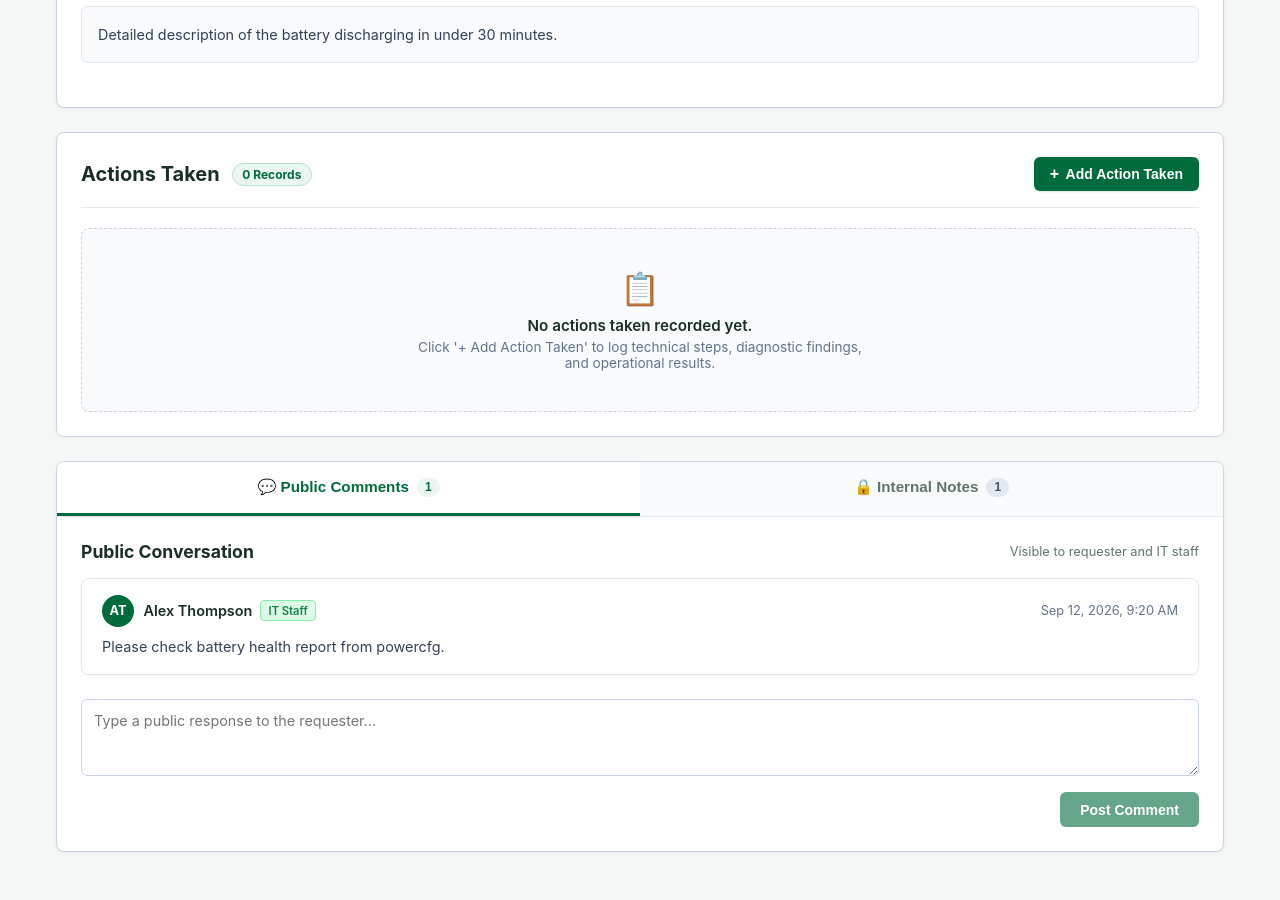
Test case: UI-04 & UI-05: StaffTicketDetail Component Tests › UI-05: Public Comments vs Internal Notes Isolation › renders Public Comments tab by default with comments list and post form
(page scrolled)
Expected: the button with test id "public-comments-tab" is shown, [57,462,640,516]
Expected: the text "Please check battery health report from powercfg." is shown, [102,638,445,655]
// Post new comment
Type "We have shipped a replacement battery to your office." into the text box with test id "public-comment-input". click: (640, 738)
box: [81,699,1199,776]
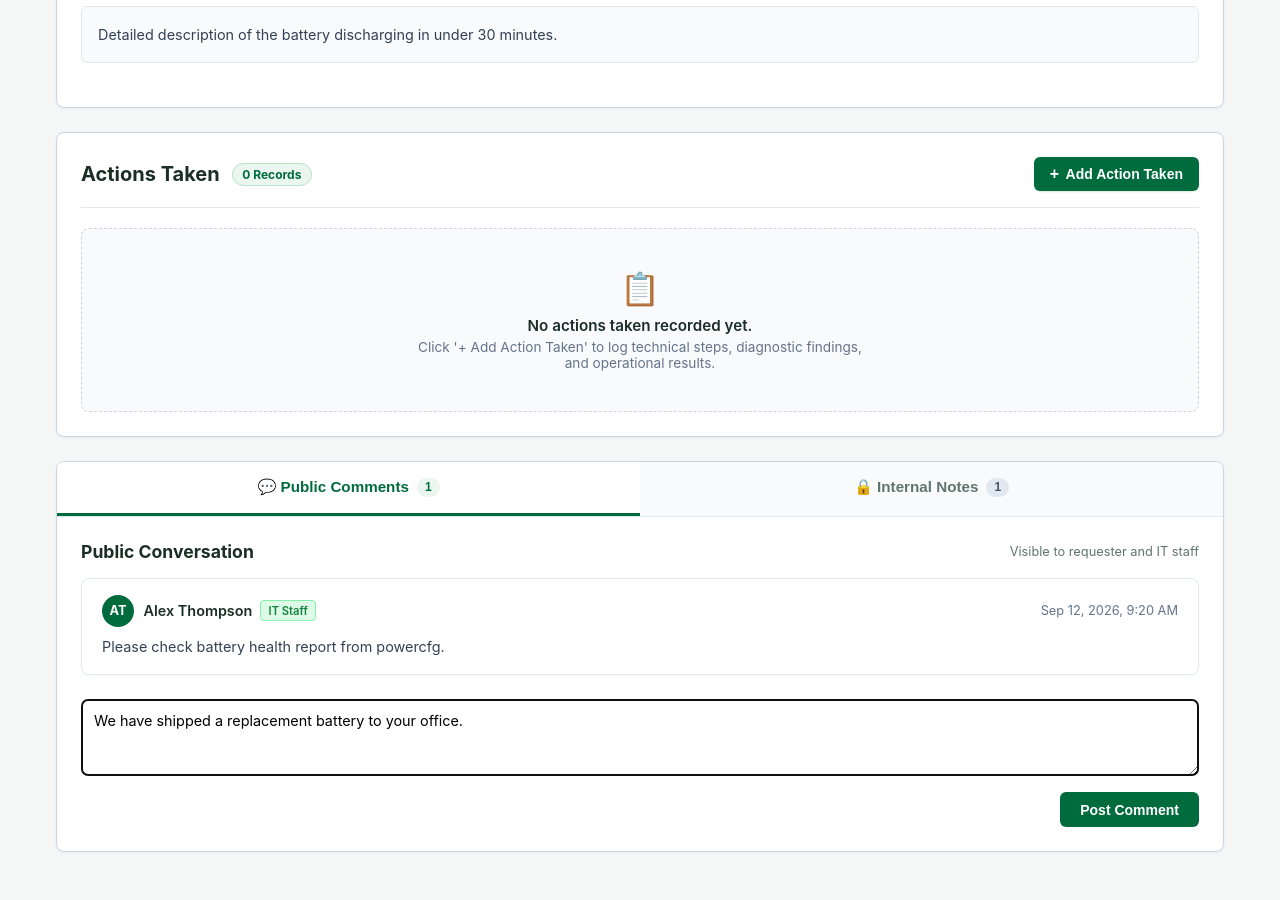
Click the button with test id "post-comment-btn". click: (1130, 810)
box: [1060,792,1199,827]
(page scrolled)
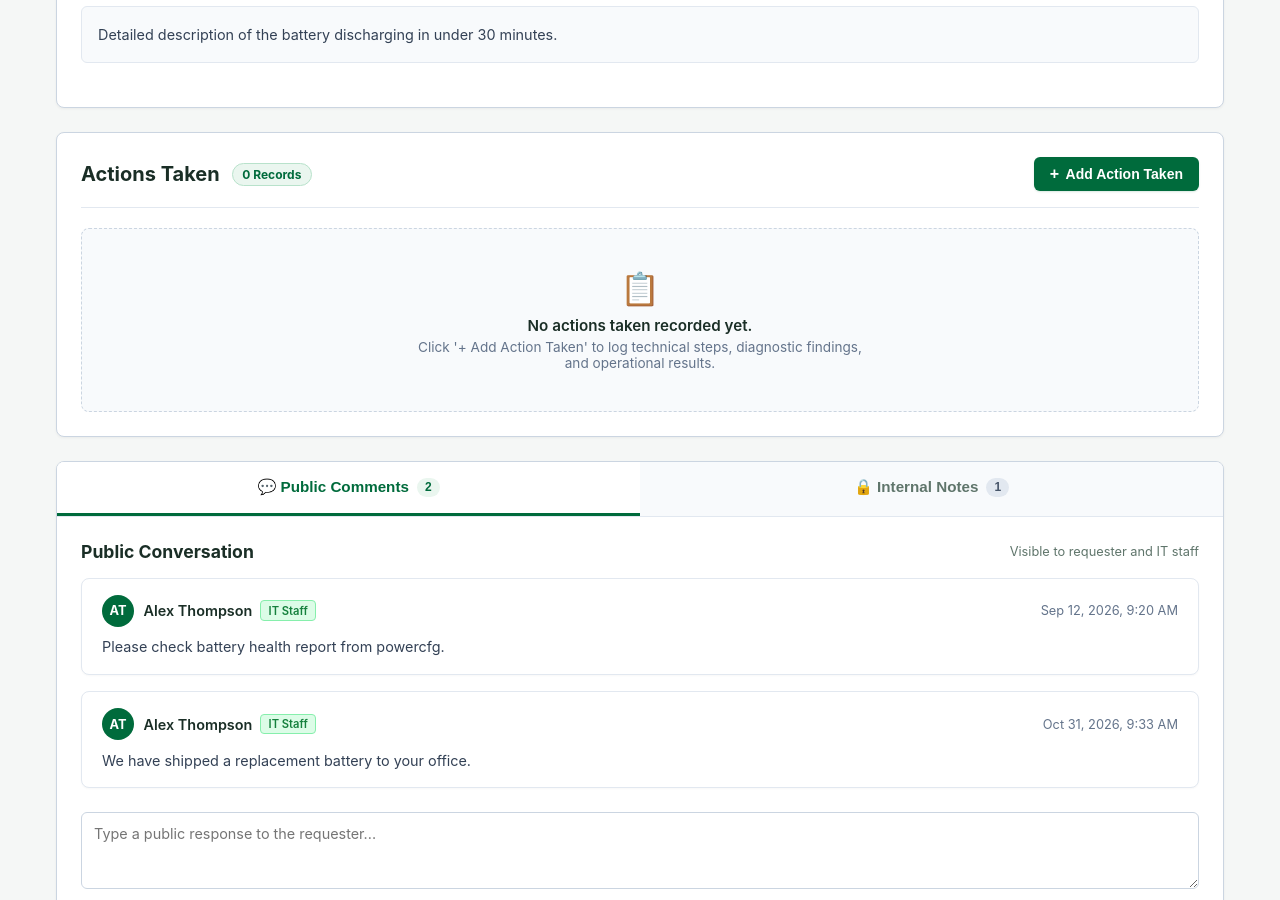
Now the text "We have shipped a replacement battery to your office." is shown, box [102,752,471,769]
